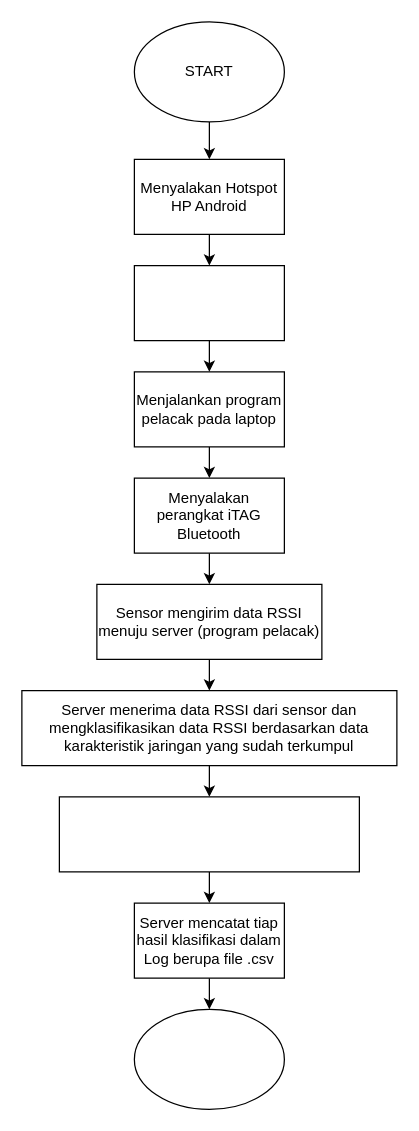
Some shapes in this 419 by 1131 pixel diagram are drawn without their labels. Here are the shapes that lost their labels. From the top down, the box of each, then its label:
(133, 264, 284, 341): Menyalakan Sensor ESP32
(58, 796, 359, 872): Hasil klasifikasi berupa nama ruangan dimana perangkat beradaiTAG Bluetooth
(133, 1008, 284, 1109): STOP
